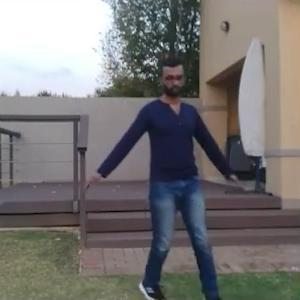land: (89, 66, 225, 290)
